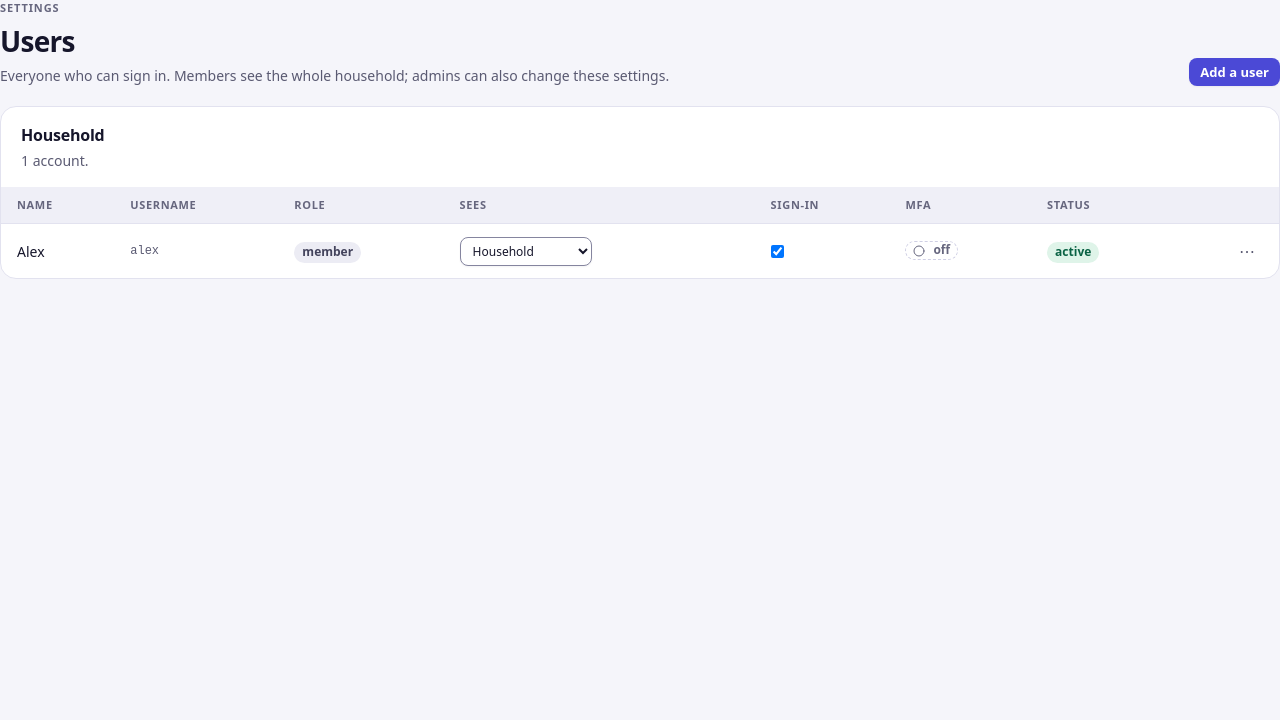
Test case: UsersManager — "Add a user" is a disclosure covering both create cards (2026-08-30 Settings sweep) › opens on click, revealing both create forms, and the toggle becomes Close
The image size is (1280, 720).
Click the button "Add a user": (1235, 72) [1189,58,1279,86]
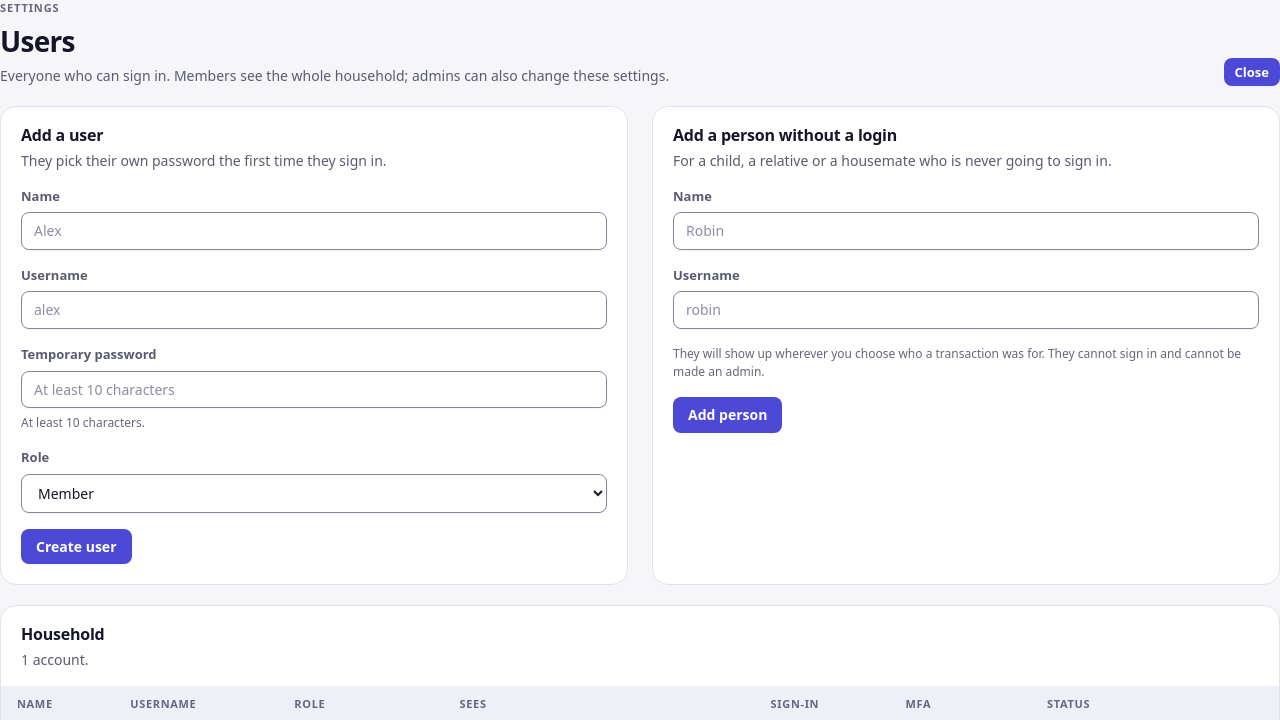
Expected: the button "Close" is expanded, [1224,58,1279,86]
Expected: the field with placeholder "Alex" below "Add a user" is shown, [21,212,607,250]
Expected: the field with placeholder "Robin" below "Add a person without a login" is shown, [673,212,1259,250]
